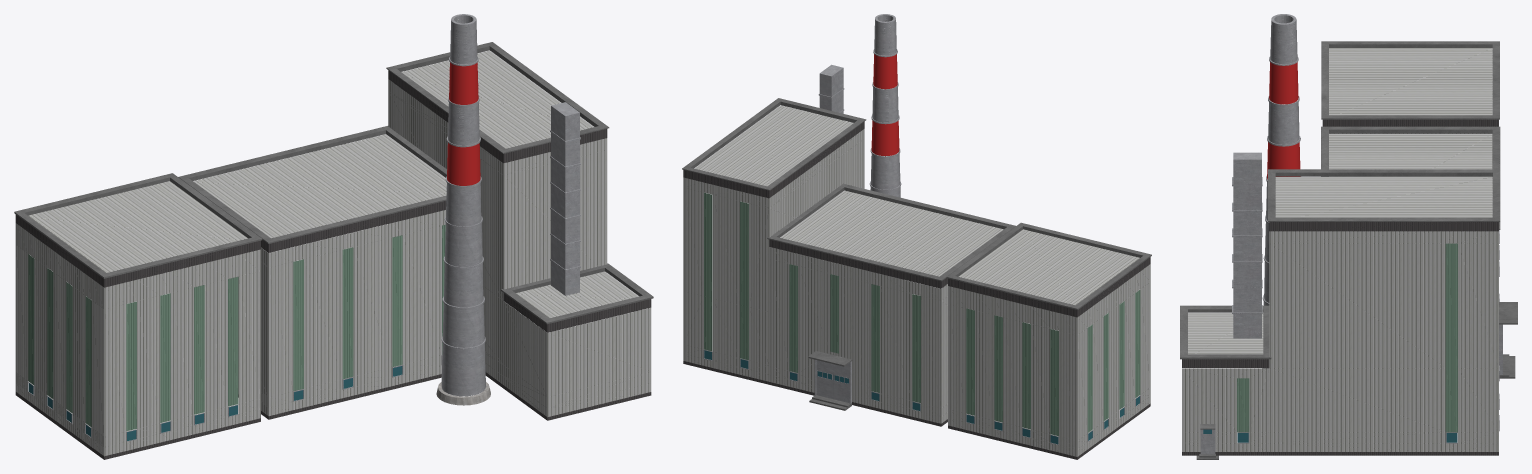
Rendered from 中心化验室.glb.
The picture shows the model from 3 angles, left to right: view 1: azimuth 30°, elevation 25°; view 2: azimuth 150°, elevation 25°; view 3: azimuth 270°, elevation 25°; orthographic projection. The views are drawn at different scales.
Parts seen in each view (by area): view 1: 中心化验室00, 中心化验室03, 中心化验室06, 中心化验室01, 中心化验室02, 中心化验室04, 中心化验室05; view 2: 中心化验室00, 中心化验室06, 中心化验室01, 中心化验室02, 中心化验室03, 中心化验室04, 中心化验室05; view 3: 中心化验室00, 中心化验室01, 中心化验室03, 中心化验室02, 中心化验室06, 中心化验室04.
Part boxes in pixels (x1=…): 中心化验室00: x1=15, y1=50, x2=651, y2=456; 中心化验室03: x1=27, y1=14, x2=580, y2=441; 中心化验室06: x1=28, y1=224, x2=445, y2=431; 中心化验室01: x1=14, y1=42, x2=653, y2=324; 中心化验室02: x1=15, y1=70, x2=651, y2=459; 中心化验室04: x1=447, y1=62, x2=480, y2=185; 中心化验室05: x1=28, y1=366, x2=402, y2=440; 中心化验室00: x1=683, y1=105, x2=1150, y2=456; 中心化验室06: x1=704, y1=192, x2=1140, y2=436; 中心化验室01: x1=682, y1=98, x2=1151, y2=410; 中心化验室02: x1=683, y1=121, x2=1150, y2=459; 中心化验室03: x1=703, y1=14, x2=1140, y2=444; 中心化验室04: x1=871, y1=54, x2=899, y2=156; 中心化验室05: x1=704, y1=350, x2=1139, y2=444; 中心化验室00: x1=1182, y1=48, x2=1498, y2=451; 中心化验室01: x1=1180, y1=41, x2=1517, y2=459; 中心化验室03: x1=1200, y1=14, x2=1502, y2=454; 中心化验室02: x1=1182, y1=119, x2=1498, y2=455; 中心化验室06: x1=1237, y1=243, x2=1457, y2=432; 中心化验室04: x1=1267, y1=62, x2=1300, y2=179.
Size of the model in its own units: 45.66 by 33.72 by 27.68.
Materials: 8 (7 with a texture image).
